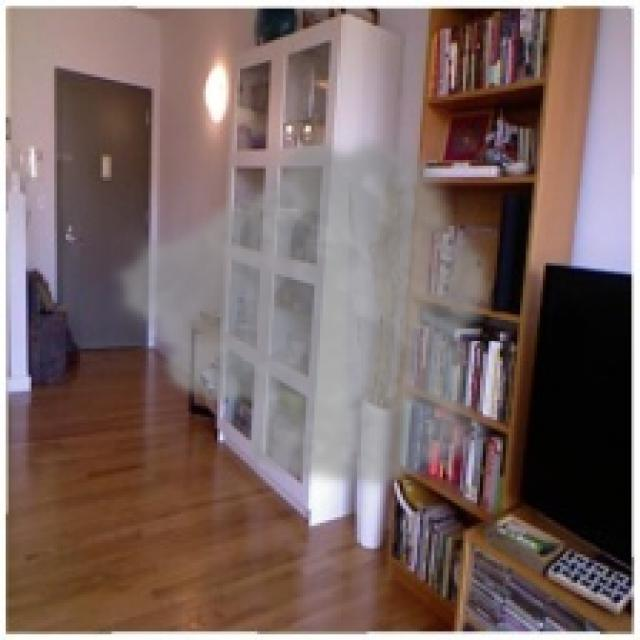smoke: (106, 126, 494, 494)
